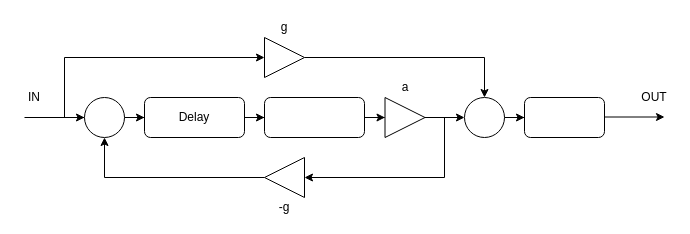
Some shapes in this 690 by 234 pixel diagram are drawn without their labels. Here are the shapes that lost their labels. From the top down, the centre of each, then its label:
At point (314, 117): "Low Pass Filter".
At point (564, 117): "APF (BQ Filter)".
